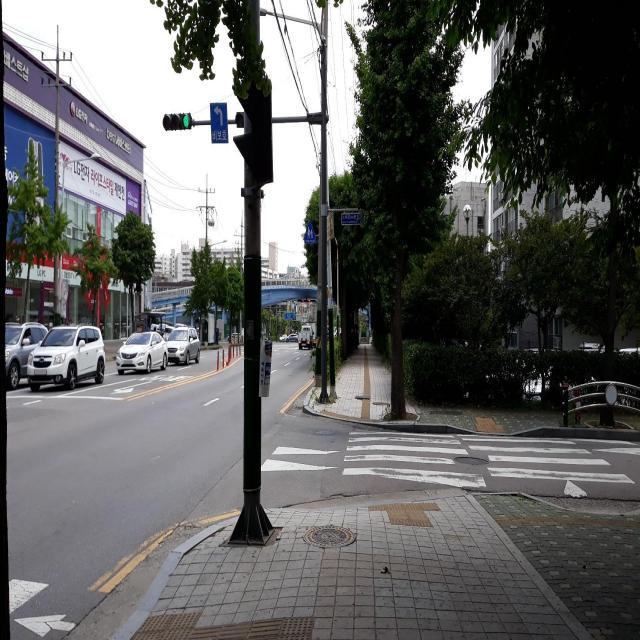횡단보도: (341, 428, 637, 499)
